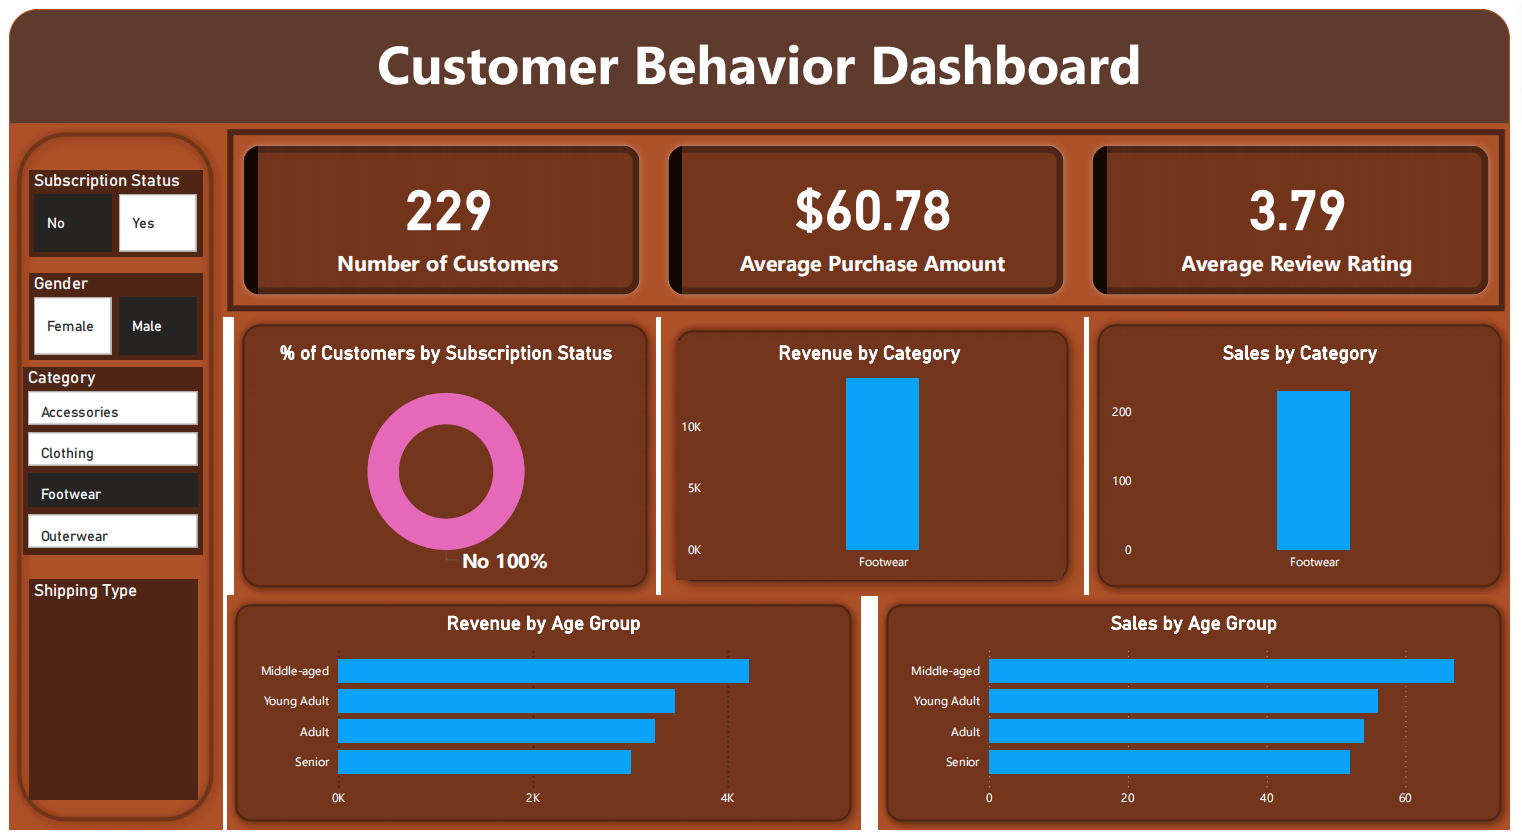

The page's visual inventory and layout, read from the dashboard file:
{"tool":"powerbi","page":{"name":"Page 1","canvas":[1500,820],"ordinal":0},"visuals":[{"type":"cardVisual","fields":{"Data":["public customer.Number of Customers","public customer.Average Purchase Amount","public customer.Average Review Rating"]},"box":[212.9,115.3,1286.5,191.6],"z":2000},{"type":"shape","box":[218.3,585.6,631.7,234.2],"z":2500,"group":"g1"},{"type":"shape","box":[0,0,1499.4,115.3],"z":3000},{"type":"textbox","box":[0,12.4,1499.4,102.9],"z":4000},{"type":"shape","box":[225.4,307,420.5,278.6],"z":5000},{"type":"donutChart","title":"% of Customers by Subscription Status","fields":{"Category":["public customer.subscription_status"],"Y":["CountNonNull(public customer.customer_id)"]},"box":[248.4,331.8,376.2,237.8],"z":6000},{"type":"shape","box":[1078.9,307,420.5,278.6],"z":7000},{"type":"shape","box":[652.1,307,420.5,278.6],"z":8000},{"type":"clusteredColumnChart","title":"Revenue by Category","fields":{"Y":["Sum(public customer.purchase_amount)"],"Category":["public customer.category"]},"box":[667.2,331.8,385.1,237.8],"z":9000},{"type":"clusteredColumnChart","title":"Sales by Category","fields":{"Y":["CountNonNull(public customer.customer_id)"],"Category":["public customer.category"]},"box":[1096.6,331.8,385.1,237.8],"z":10000},{"type":"shape","box":[0,115.3,212.9,704.5],"z":11000},{"type":"advancedSlicerVisual","fields":{"Values":["public customer.subscription_status"]},"box":[19.5,161.5,173.9,85.2],"z":12000},{"type":"advancedSlicerVisual","fields":{"Values":["public customer.gender"]},"box":[19.5,264.4,173.9,85.2],"z":13000},{"type":"advancedSlicerVisual","fields":{"Values":["public customer.category"]},"box":[14.2,358.4,179.2,186.3],"z":14000},{"type":"listSlicer","fields":{"Values":["public customer.shipping_type"]},"box":[19.5,569.6,168.6,220],"z":15000},{"type":"shape","box":[867.7,585.6,631.7,234.2],"z":16000},{"type":"clusteredBarChart","title":"Sales by Age Group","fields":{"Y":["CountNonNull(public customer.customer_id)"],"Category":["public customer.age_group"]},"box":[890.8,601.5,585.6,204.1],"z":17000},{"type":"clusteredBarChart","title":"Revenue by Age Group","fields":{"Y":["Sum(public customer.purchase_amount)"],"Category":["public customer.age_group"]},"box":[241.4,601.6,585.6,204.1],"z":17500,"group":"g1"},{"type":"group","id":"g1","title":"Group 1","box":[218.3,585.6,631.7,234.2],"z":17501}]}

Visuals, with their boxes in screenshot pixels (x1, y1, x2, y2), scaled from the page's 1500x820 canvas onto the 1522x840 screenshot:
cardVisual - public customer.Number of Customers x public customer.Average Purchase Amount: locate(216, 118, 1521, 314)
shape: locate(222, 600, 862, 839)
shape: locate(0, 0, 1521, 118)
textbox: locate(0, 13, 1521, 118)
shape: locate(229, 314, 655, 600)
"% of Customers by Subscription Status" donutChart: locate(252, 340, 634, 583)
shape: locate(1095, 314, 1521, 600)
shape: locate(662, 314, 1088, 600)
"Revenue by Category" clusteredColumnChart: locate(677, 340, 1068, 583)
"Sales by Category" clusteredColumnChart: locate(1113, 340, 1503, 583)
shape: locate(0, 118, 216, 839)
advancedSlicerVisual - public customer.subscription_status: locate(20, 165, 196, 253)
advancedSlicerVisual - public customer.gender: locate(20, 271, 196, 358)
advancedSlicerVisual - public customer.category: locate(14, 367, 196, 558)
listSlicer - public customer.shipping_type: locate(20, 583, 191, 809)
shape: locate(880, 600, 1521, 839)
"Sales by Age Group" clusteredBarChart: locate(904, 616, 1498, 825)
"Revenue by Age Group" clusteredBarChart: locate(245, 616, 839, 825)
"Group 1" group: locate(222, 600, 862, 839)
